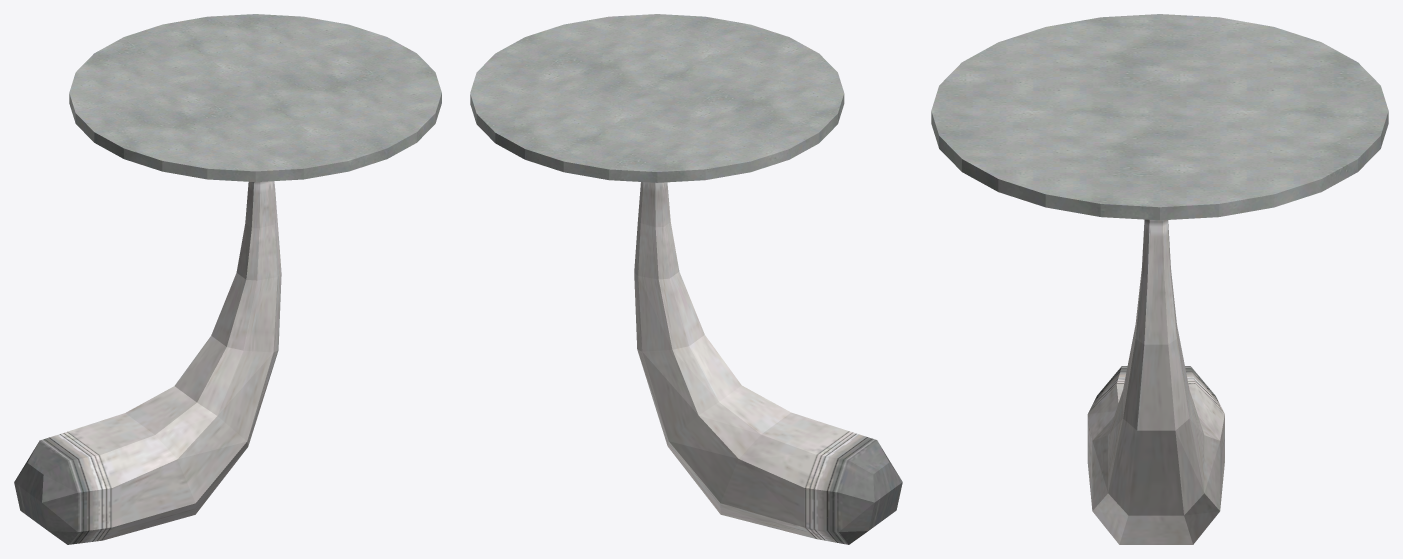
Rendered from frn_all_mdrn_end_table_sml_s01_l0.fbx.
3 views of the same model, side by side, from view 1: azimuth 30°, elevation 25°; view 2: azimuth 150°, elevation 25°; view 3: azimuth 270°, elevation 25° (orthographic). The views are drawn at different scales.
Parts seen in each view (by area): view 1: mesh_node; view 2: mesh_node; view 3: mesh_node.
Part boxes in pixels (x1,y1,x2,y2): mesh_node: (14, 14, 441, 544); mesh_node: (470, 14, 902, 544); mesh_node: (931, 14, 1388, 544).
Size of the model in its own units: 0.7622 by 0.73 by 0.63.
